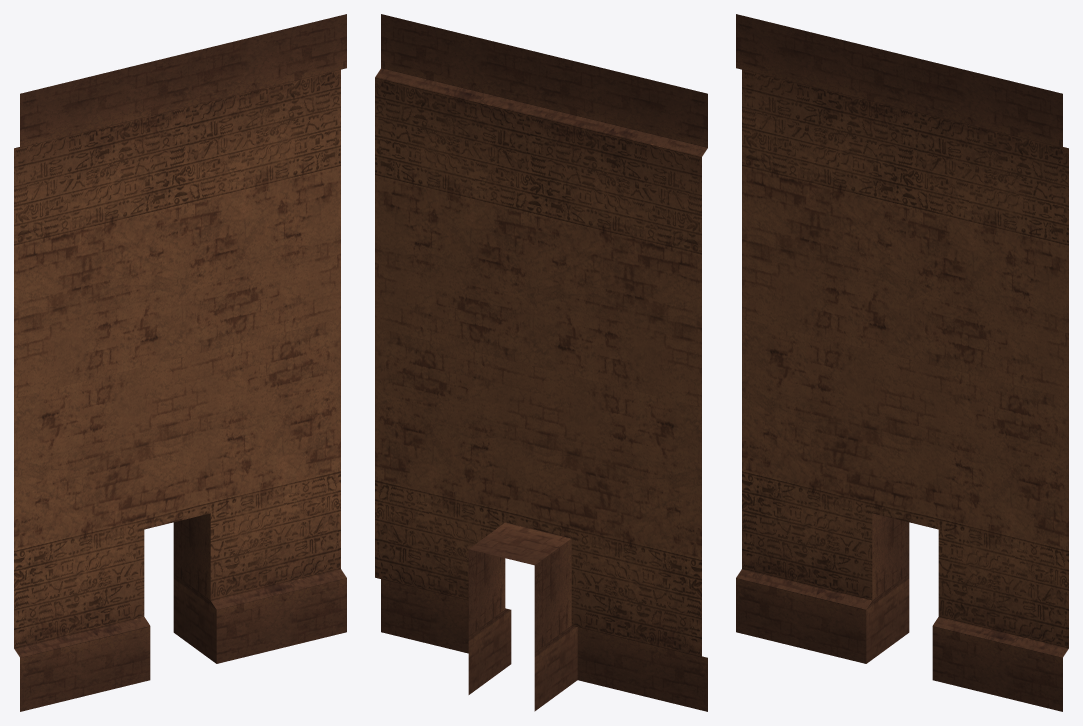
Rendered from Wall_Inside_Door_1x2.fbx.
The picture shows the model from 3 angles, left to right: view 1: azimuth 30°, elevation 25°; view 2: azimuth 150°, elevation 25°; view 3: azimuth 330°, elevation 25°; orthographic projection.
Parts seen in each view (by area): view 1: Wall_Inside_Door_1x2; view 2: Wall_Inside_Door_1x2; view 3: Wall_Inside_Door_1x2.
Boxes of the visible parts, left/top/right/bottom form: Wall_Inside_Door_1x2: left=14, top=14, right=346, bottom=711; Wall_Inside_Door_1x2: left=375, top=14, right=707, bottom=711; Wall_Inside_Door_1x2: left=736, top=14, right=1068, bottom=711.
Size of the model in its own units: 116 by 210 by 26.46.
